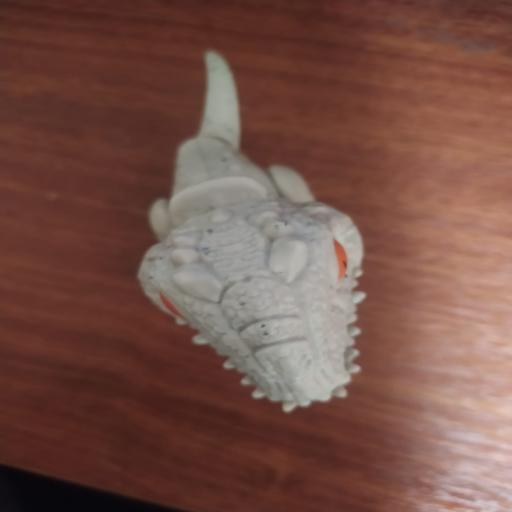Dinosaurio: (128, 44, 375, 421)
